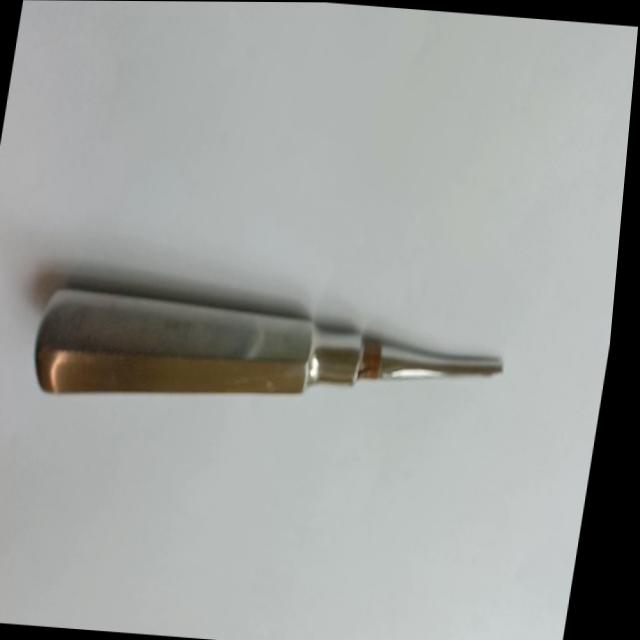Coupland1: (25, 276, 523, 436)
